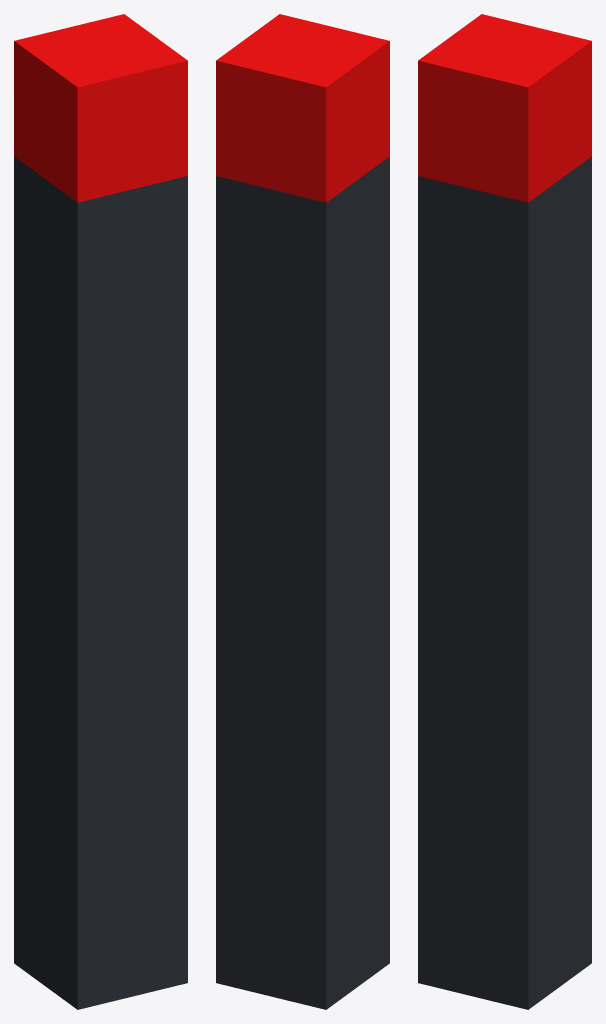
File: Electronics-6.fbx
3 views of the same model, side by side, from view 1: azimuth 30°, elevation 25°; view 2: azimuth 150°, elevation 25°; view 3: azimuth 330°, elevation 25° (orthographic).
Visible parts, largest first — view 1: Electronics_6; view 2: Electronics_6; view 3: Electronics_6.
Boxes of the visible parts, x1=… form: Electronics_6: x1=14, y1=14, x2=187, y2=1009; Electronics_6: x1=216, y1=14, x2=389, y2=1009; Electronics_6: x1=418, y1=14, x2=591, y2=1009.
Size of the model in its own units: 10 by 80 by 10.
Materials: 2 (2 with a texture image).
